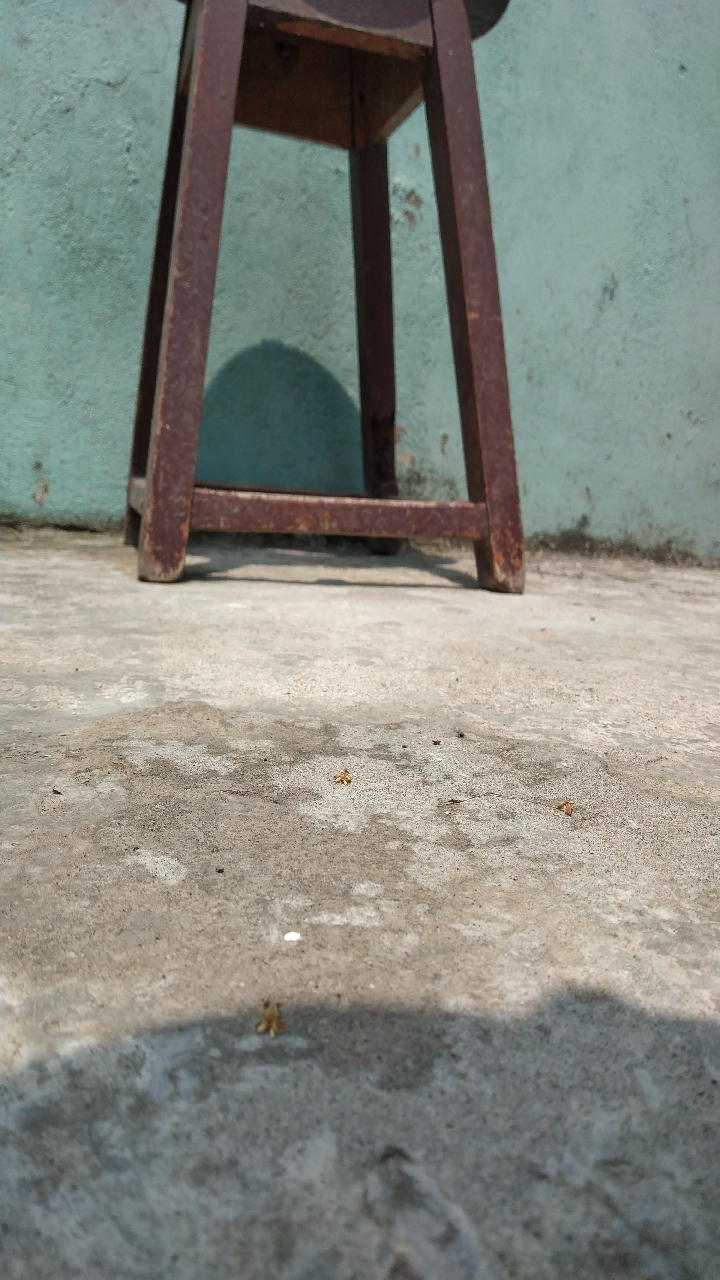Furnitures: (128, 157, 535, 596)
